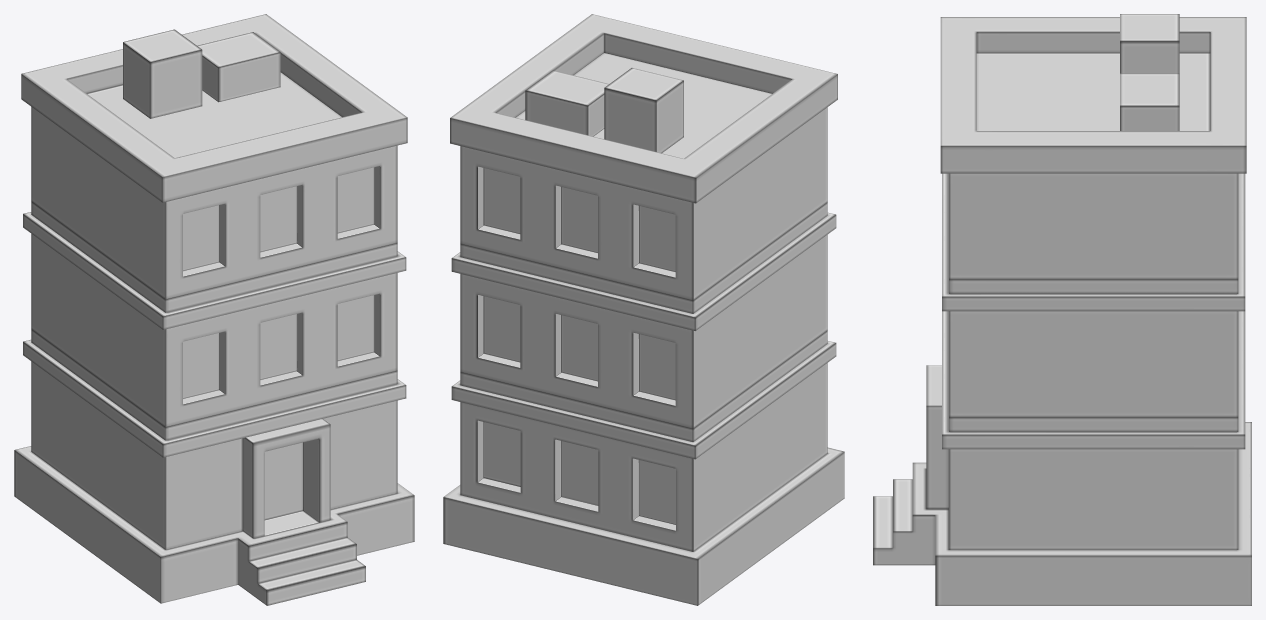
File: Building-01.fbx
The picture shows the model from 3 angles, left to right: view 1: azimuth 30°, elevation 25°; view 2: azimuth 150°, elevation 25°; view 3: azimuth 270°, elevation 25°; orthographic projection. The views are drawn at different scales.
Visible parts, largest first — view 1: Building_01; view 2: Building_01; view 3: Building_01.
Part boxes in pixels (x1,y1,x2,y2): Building_01: (14,14,414,605); Building_01: (443,14,844,605); Building_01: (873,14,1251,605).
Bounding box in the file's own units: 2.19 × 3.79 × 2.62.
